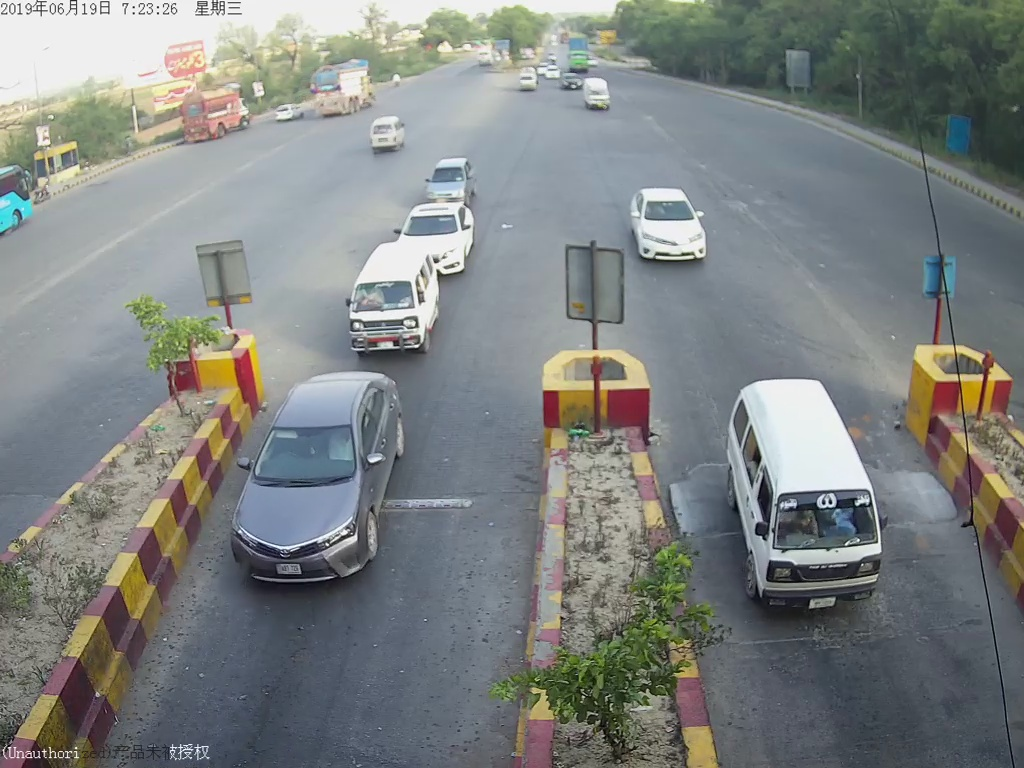Cat-1: (722, 372, 896, 624), (240, 371, 419, 590), (348, 252, 431, 360), (631, 184, 712, 266)
